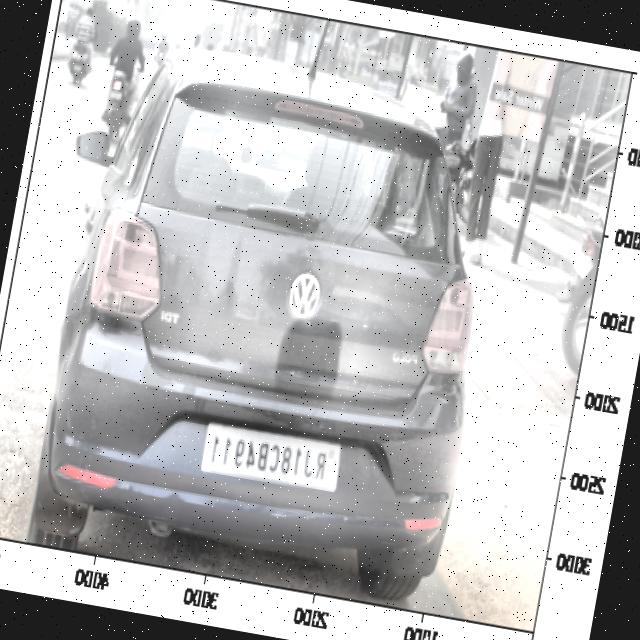license_plate: (200, 420, 338, 495)
